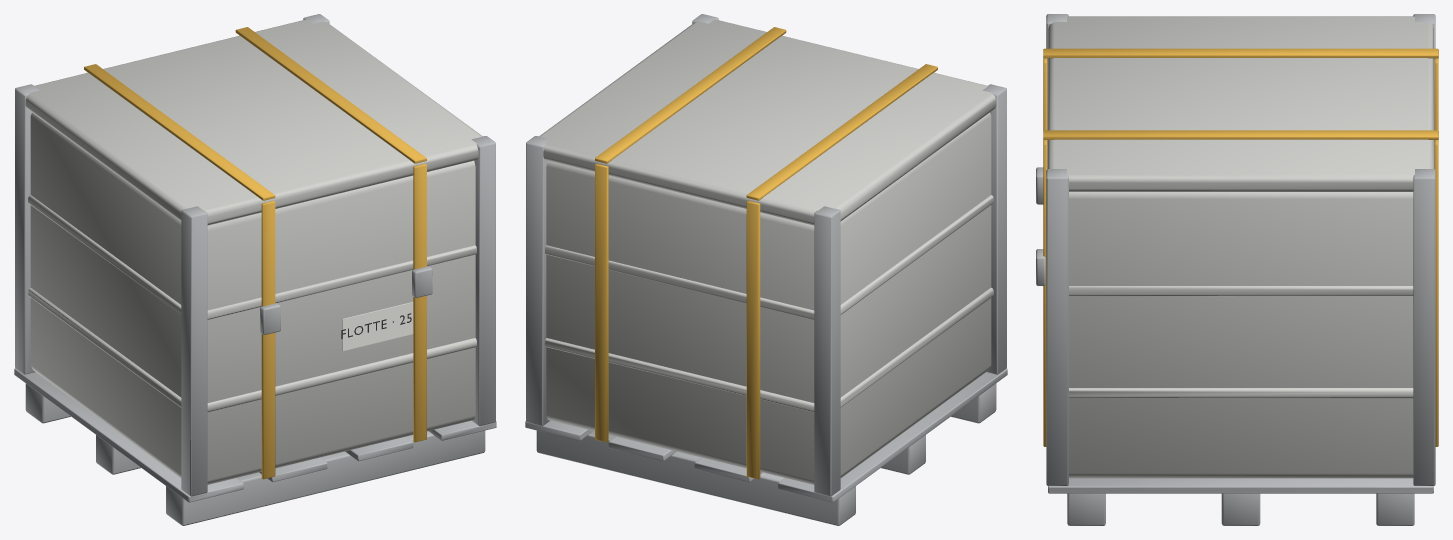
File: FrachtPalette.85f52270be.glb
3 renders of one model, left to right at view 1: azimuth 30°, elevation 25°; view 2: azimuth 150°, elevation 25°; view 3: azimuth 270°, elevation 25°, orthographic. The views are drawn at different scales.
Parts seen in each view (by area): view 1: Aufbau__lack, Aufbau__metall, Aufbau__matt; view 2: Aufbau__lack, Aufbau__metall, Aufbau__matt; view 3: Aufbau__lack, Aufbau__metall, Aufbau__matt.
Part boxes in pixels (box(x1,y1,x2,y2)): Aufbau__lack: box(25, 19, 482, 484); Aufbau__metall: box(14, 14, 496, 525); Aufbau__matt: box(84, 27, 426, 479); Aufbau__lack: box(539, 19, 996, 484); Aufbau__metall: box(525, 14, 1007, 525); Aufbau__matt: box(595, 27, 937, 479); Aufbau__lack: box(1048, 16, 1433, 478); Aufbau__metall: box(1036, 14, 1435, 525); Aufbau__matt: box(1043, 48, 1438, 446).
Size of the model in its own units: 1.22 by 1.21 by 1.25.
